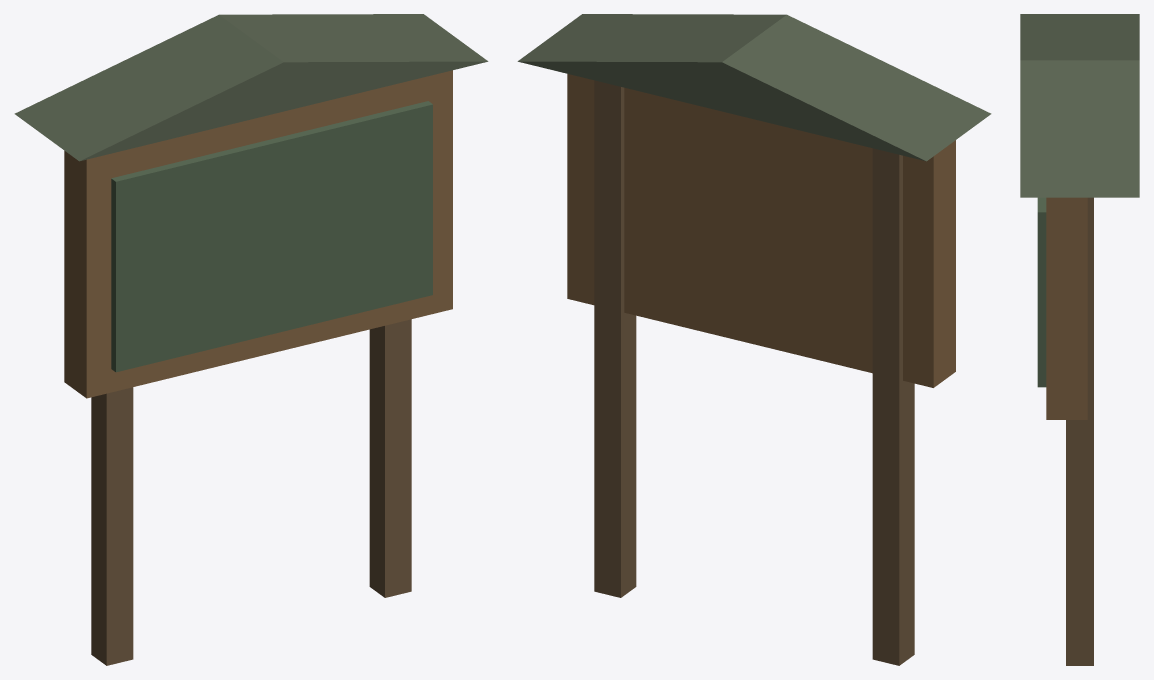
Rendered from trail-board.glb.
3 views of the same model, side by side, from view 1: azimuth 30°, elevation 25°; view 2: azimuth 150°, elevation 25°; view 3: azimuth 270°, elevation 25° (orthographic). The views are drawn at different scales.
Visible parts, largest first — view 1: trail-board; view 2: trail-board; view 3: trail-board.
Part boxes in pixels (x1,y1,x2,y2): trail-board: (14, 14, 488, 665); trail-board: (517, 14, 991, 665); trail-board: (1020, 14, 1139, 665).
Size of the model in its own units: 2 by 2.73 by 0.55.
